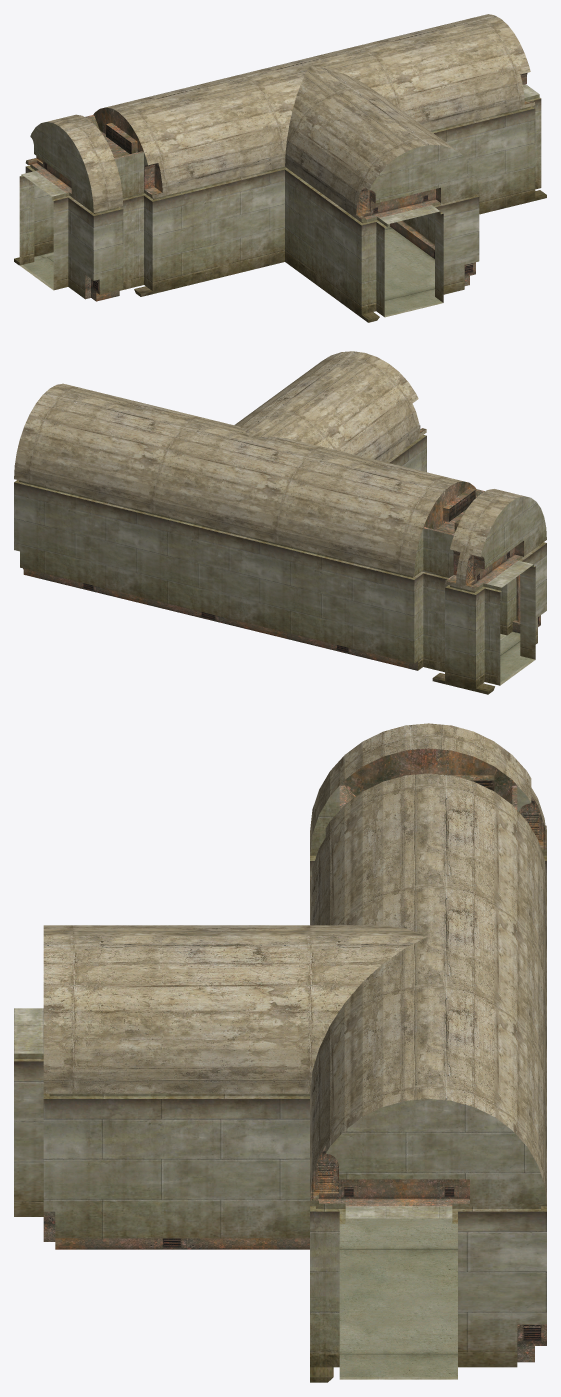
Rendered from poi_all_bunker_allum_mine_r25_hall25_mesh_r25.fbx.
3 views of the same model, one above another, from view 1: azimuth 30°, elevation 25°; view 2: azimuth 150°, elevation 25°; view 3: azimuth 270°, elevation 25° (orthographic). The views are drawn at different scales.
Parts seen in each view (by area): view 1: mesh_node; view 2: mesh_node; view 3: mesh_node.
Boxes of the visible parts, x1,y1,x2,y2 form: mesh_node: (14, 14, 546, 322); mesh_node: (14, 351, 546, 694); mesh_node: (14, 723, 546, 1382).
Size of the model in its own units: 16 by 5.1 by 9.
